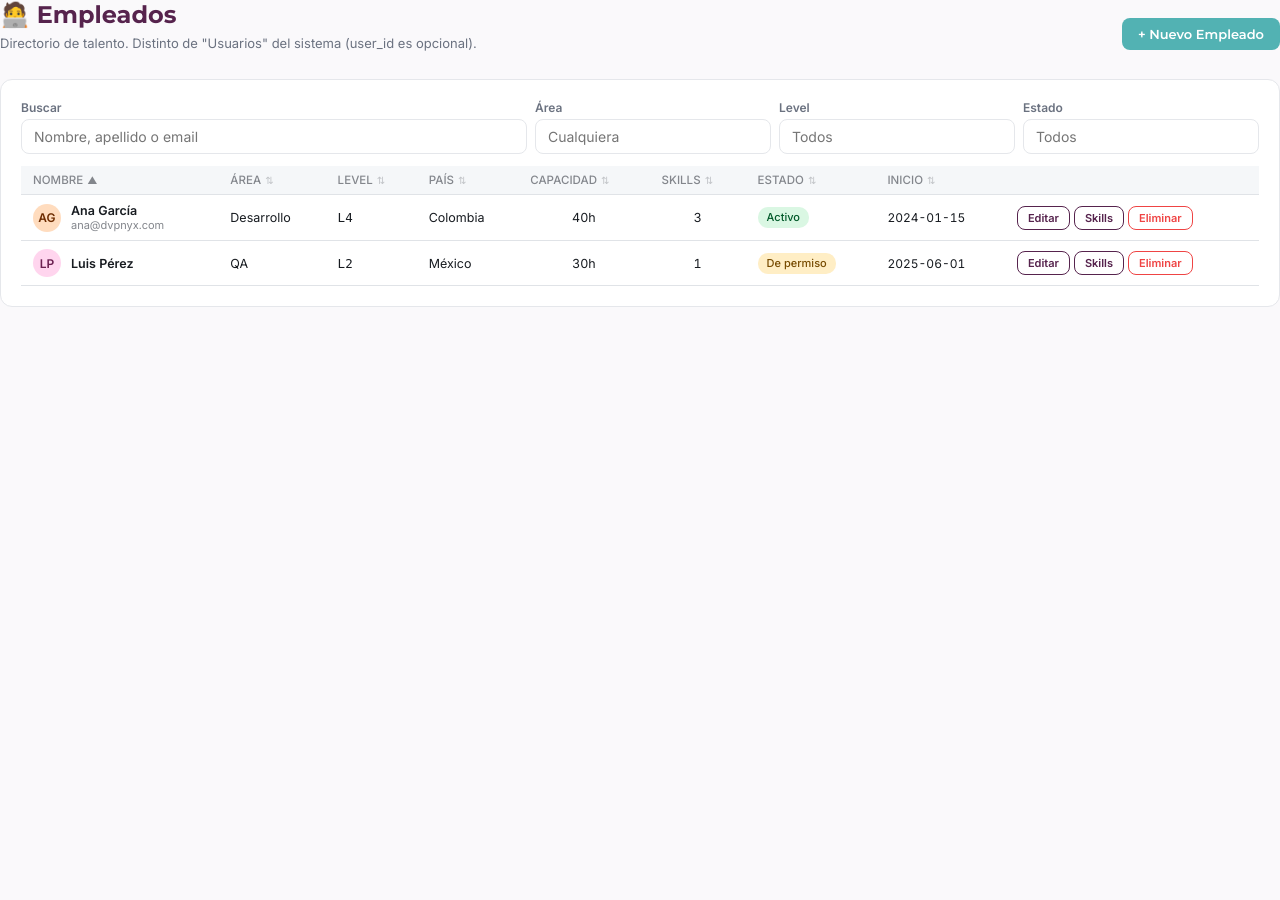
Test: Employees module › opens edit modal with prefilled values
expect the link "Ana García" is shown: met, box [71,203,137,218]
Click the button with aria-label "Editar Ana García" at (1043, 218), box [1017,206,1070,230]
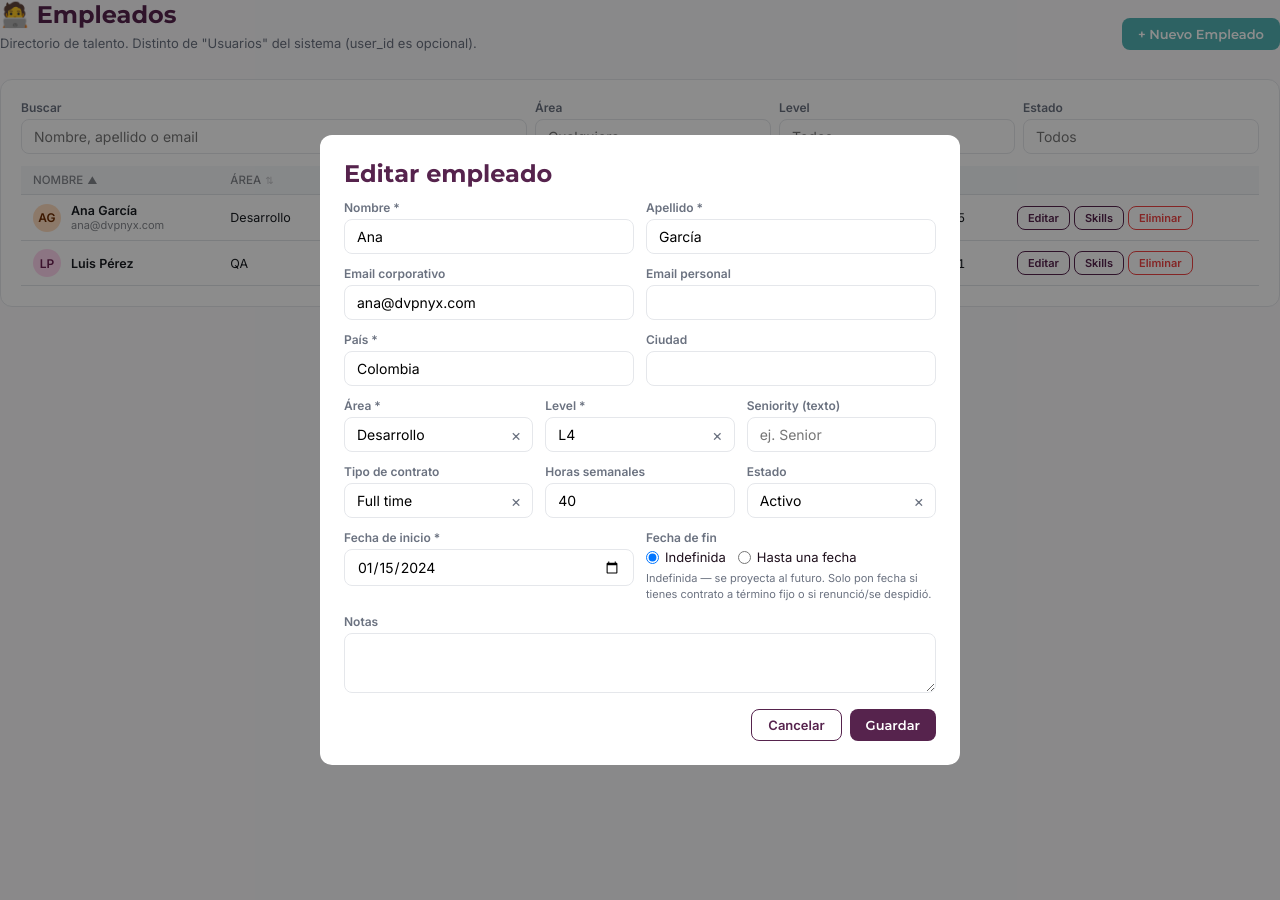
expect the heading "Editar empleado" is shown: met, box [344,159,552,188]
expect the field showing "Ana" is shown: met, box [344,219,634,254]
expect the field showing "García" is shown: met, box [646,219,936,254]
